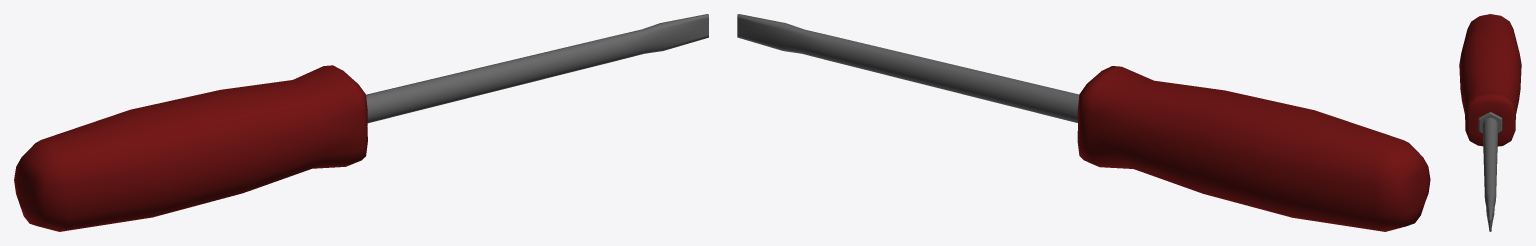
The model's file is SeanElstonScrewDriver02Final.fbx.
3 renders of one model, left to right at view 1: azimuth 30°, elevation 25°; view 2: azimuth 150°, elevation 25°; view 3: azimuth 270°, elevation 25°, orthographic. The views are drawn at different scales.
Visible parts, largest first — view 1: ScrewDriver02; view 2: ScrewDriver02; view 3: ScrewDriver02.
Boxes of the visible parts, x1=… form: ScrewDriver02: x1=14, y1=14, x2=708, y2=231; ScrewDriver02: x1=737, y1=14, x2=1430, y2=231; ScrewDriver02: x1=1459, y1=14, x2=1521, y2=231.
Size of the model in its own units: 23.59 by 3.16 by 3.21.
